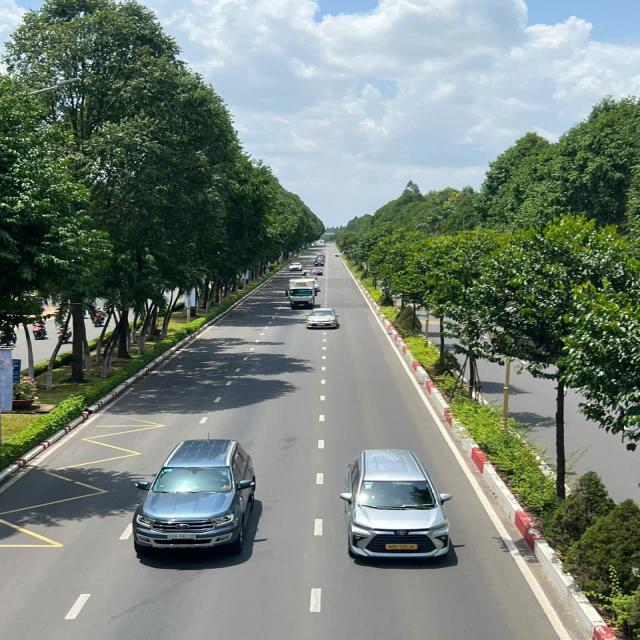ben: (286, 276, 321, 312)
car: (130, 436, 260, 557), (341, 448, 454, 564), (304, 307, 340, 330), (286, 259, 304, 272), (310, 264, 326, 278), (314, 250, 328, 261), (314, 257, 326, 267)
